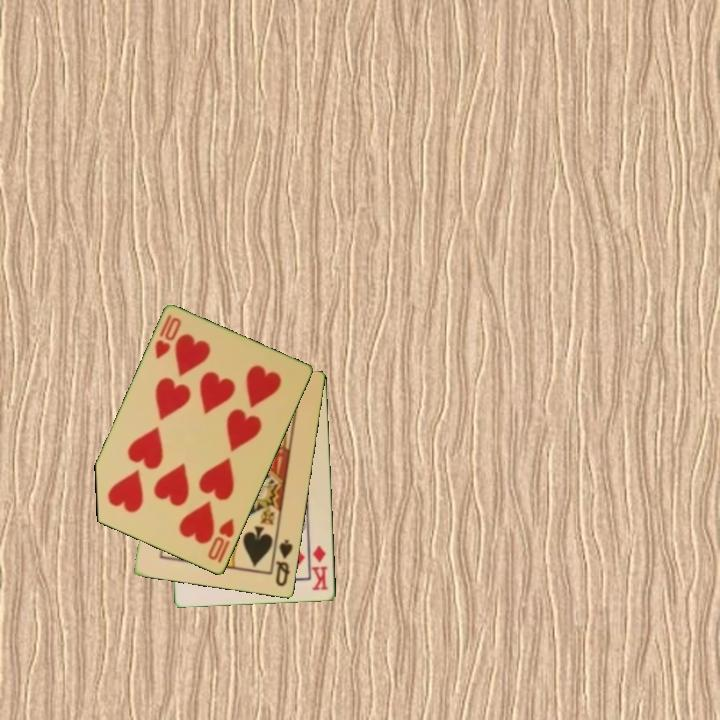10h: (151, 312, 185, 362), (204, 515, 237, 563)
Kd: (308, 542, 331, 593)
Qs: (272, 536, 296, 590)
